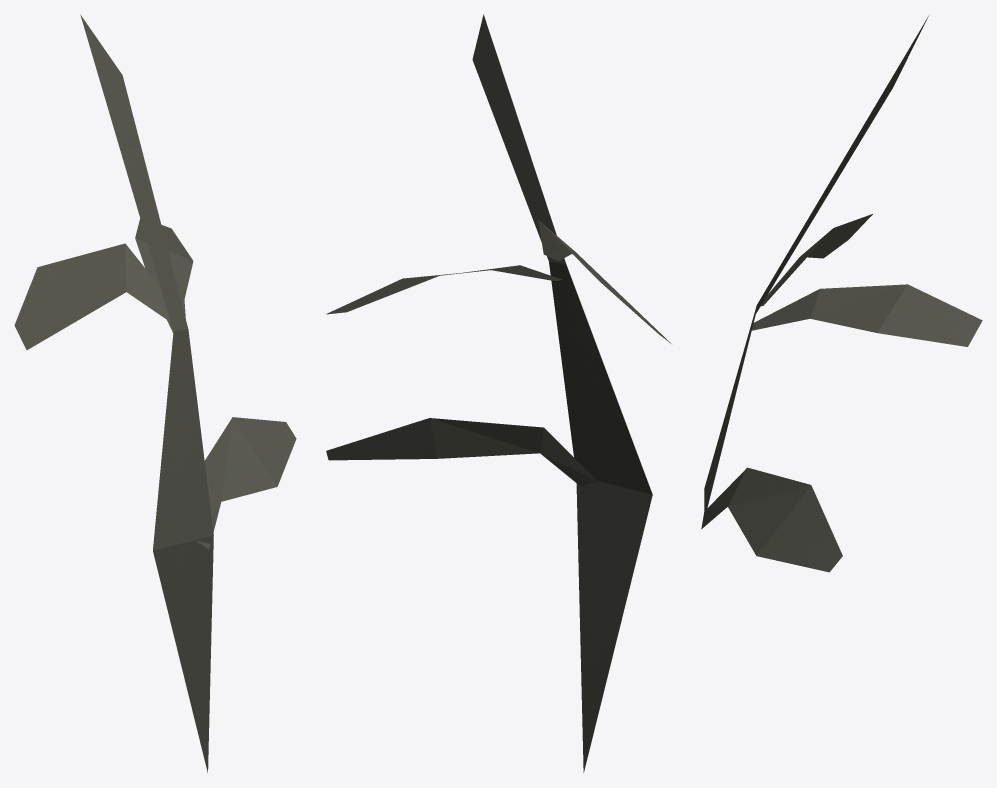
Rendered from Sap02.fbx.
The picture shows the model from 3 angles, left to right: view 1: azimuth 30°, elevation 25°; view 2: azimuth 150°, elevation 25°; view 3: azimuth 270°, elevation 25°; orthographic projection. The views are drawn at different scales.
Parts seen in each view (by area): view 1: SM_ENV_Nature_GeneralFoliageSet_Sapling02.mo; view 2: SM_ENV_Nature_GeneralFoliageSet_Sapling02.mo; view 3: SM_ENV_Nature_GeneralFoliageSet_Sapling02.mo.
Part boxes in pixels (bbox=[...]): SM_ENV_Nature_GeneralFoliageSet_Sapling02.mo: bbox=[14, 14, 296, 772]; SM_ENV_Nature_GeneralFoliageSet_Sapling02.mo: bbox=[326, 14, 671, 772]; SM_ENV_Nature_GeneralFoliageSet_Sapling02.mo: bbox=[701, 16, 982, 572].
Size of the model in its own units: 38.61 by 93.1 by 31.78.
Materials: 1 (1 with a texture image).
